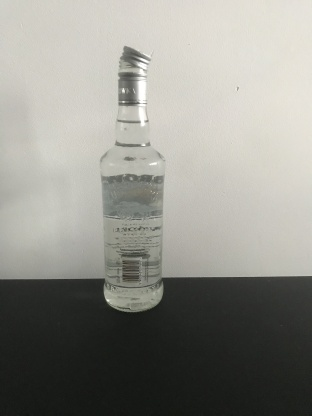nakretka: (116, 43, 152, 107)
